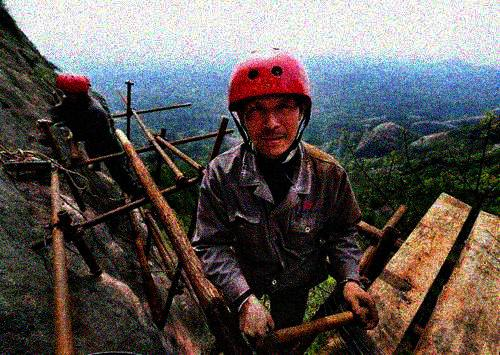helmet: (225, 46, 313, 156), (55, 70, 91, 101)
